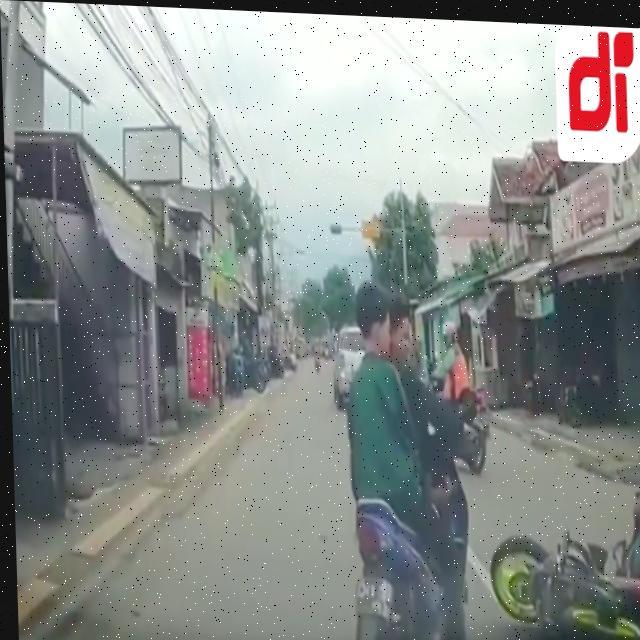multiple_accident: (201, 296, 636, 640)
